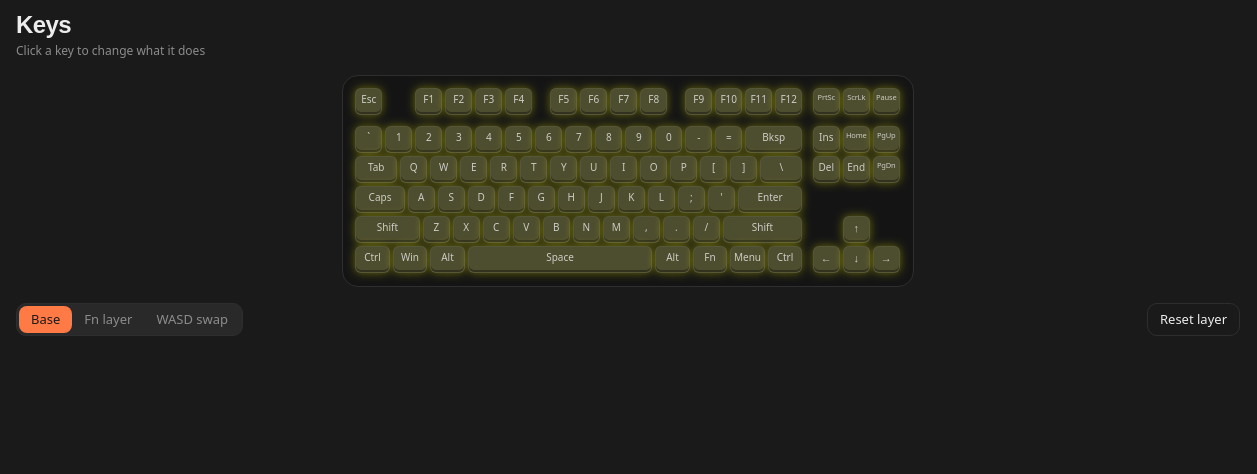
Test: base-layer Fn can't be remapped
The image size is (1257, 474).
Click the button "Fn" at (710, 259), box [693,246,727,272]
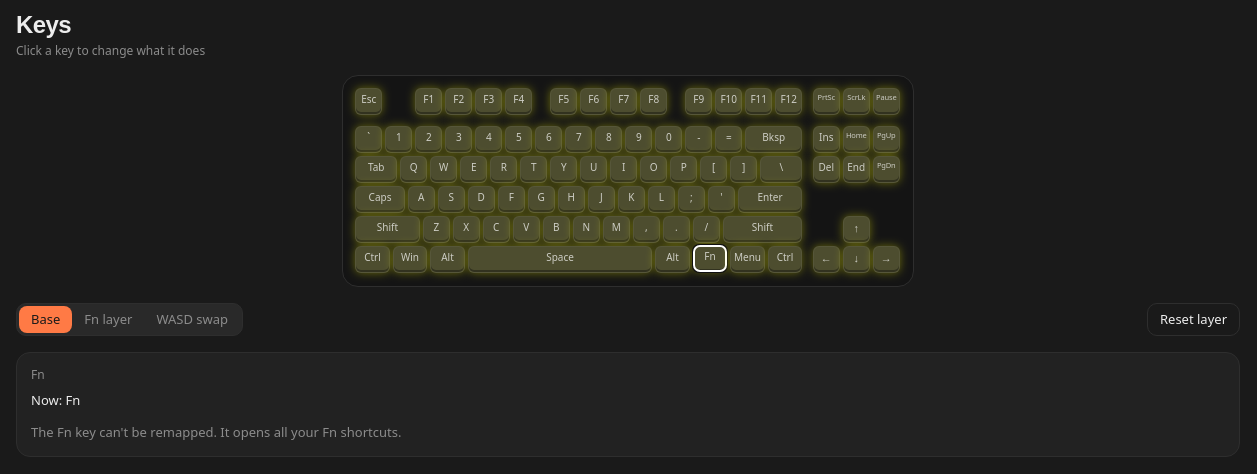
Now the text "can't be remapped" is shown, box [31,422,401,440]
